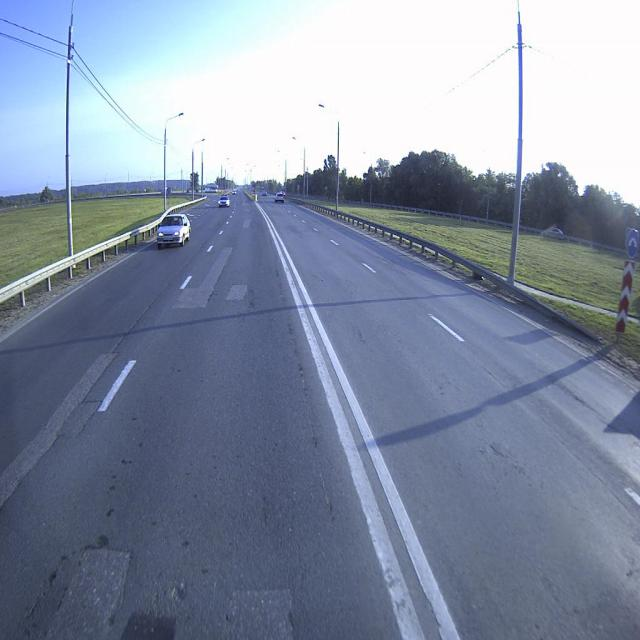road: (0, 190, 640, 639)
